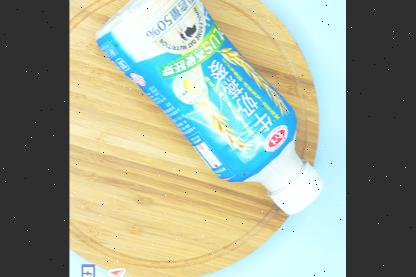Plastic Bottle: (96, 0, 323, 213)
